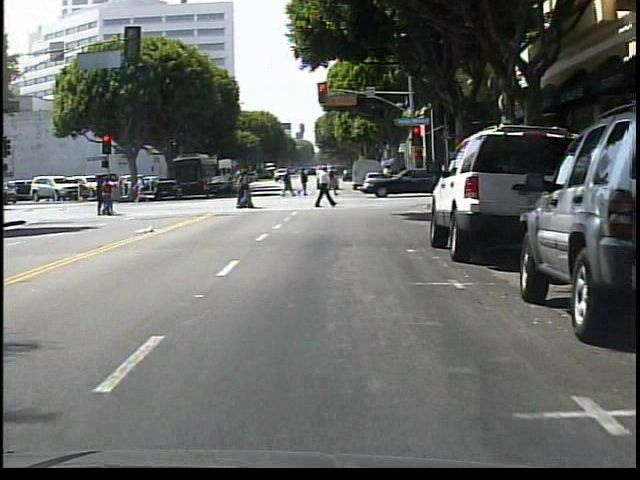person: (315, 162, 339, 214), (133, 173, 153, 203), (329, 167, 342, 196)
